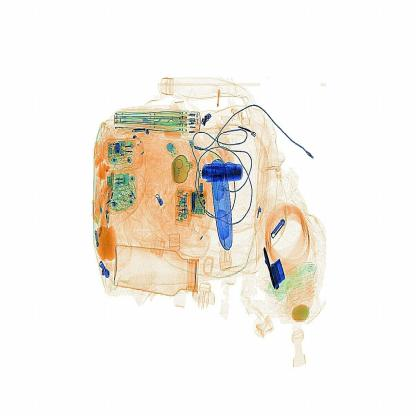scissors: (197, 152, 255, 191)
